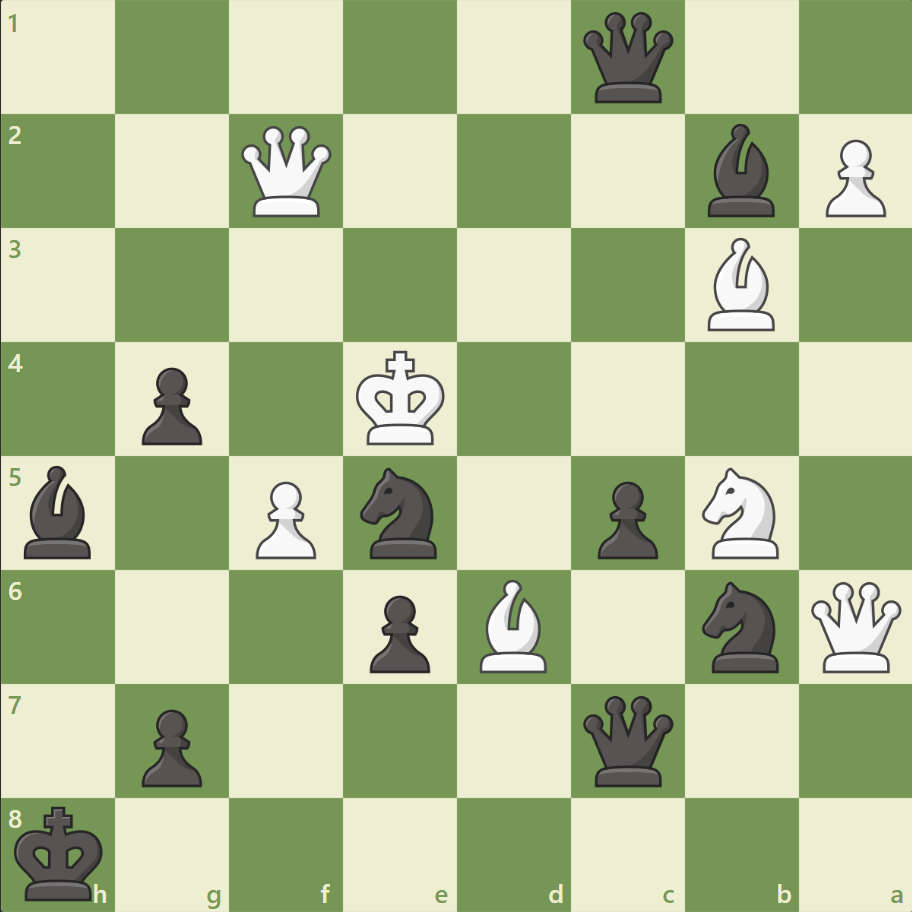B: (698, 233, 782, 336), (471, 574, 555, 676)
K: (351, 344, 451, 452)
N: (692, 461, 789, 564)
P: (247, 473, 322, 564), (815, 132, 889, 223)
Q: (805, 576, 904, 676), (237, 122, 336, 222)
b: (17, 460, 101, 563), (698, 120, 782, 222)
k: (11, 798, 111, 906)
n: (351, 461, 449, 564), (692, 575, 789, 677)
p: (133, 700, 208, 791), (133, 359, 208, 450), (361, 586, 435, 677), (588, 473, 662, 564)
q: (578, 690, 677, 789), (578, 9, 677, 108)
